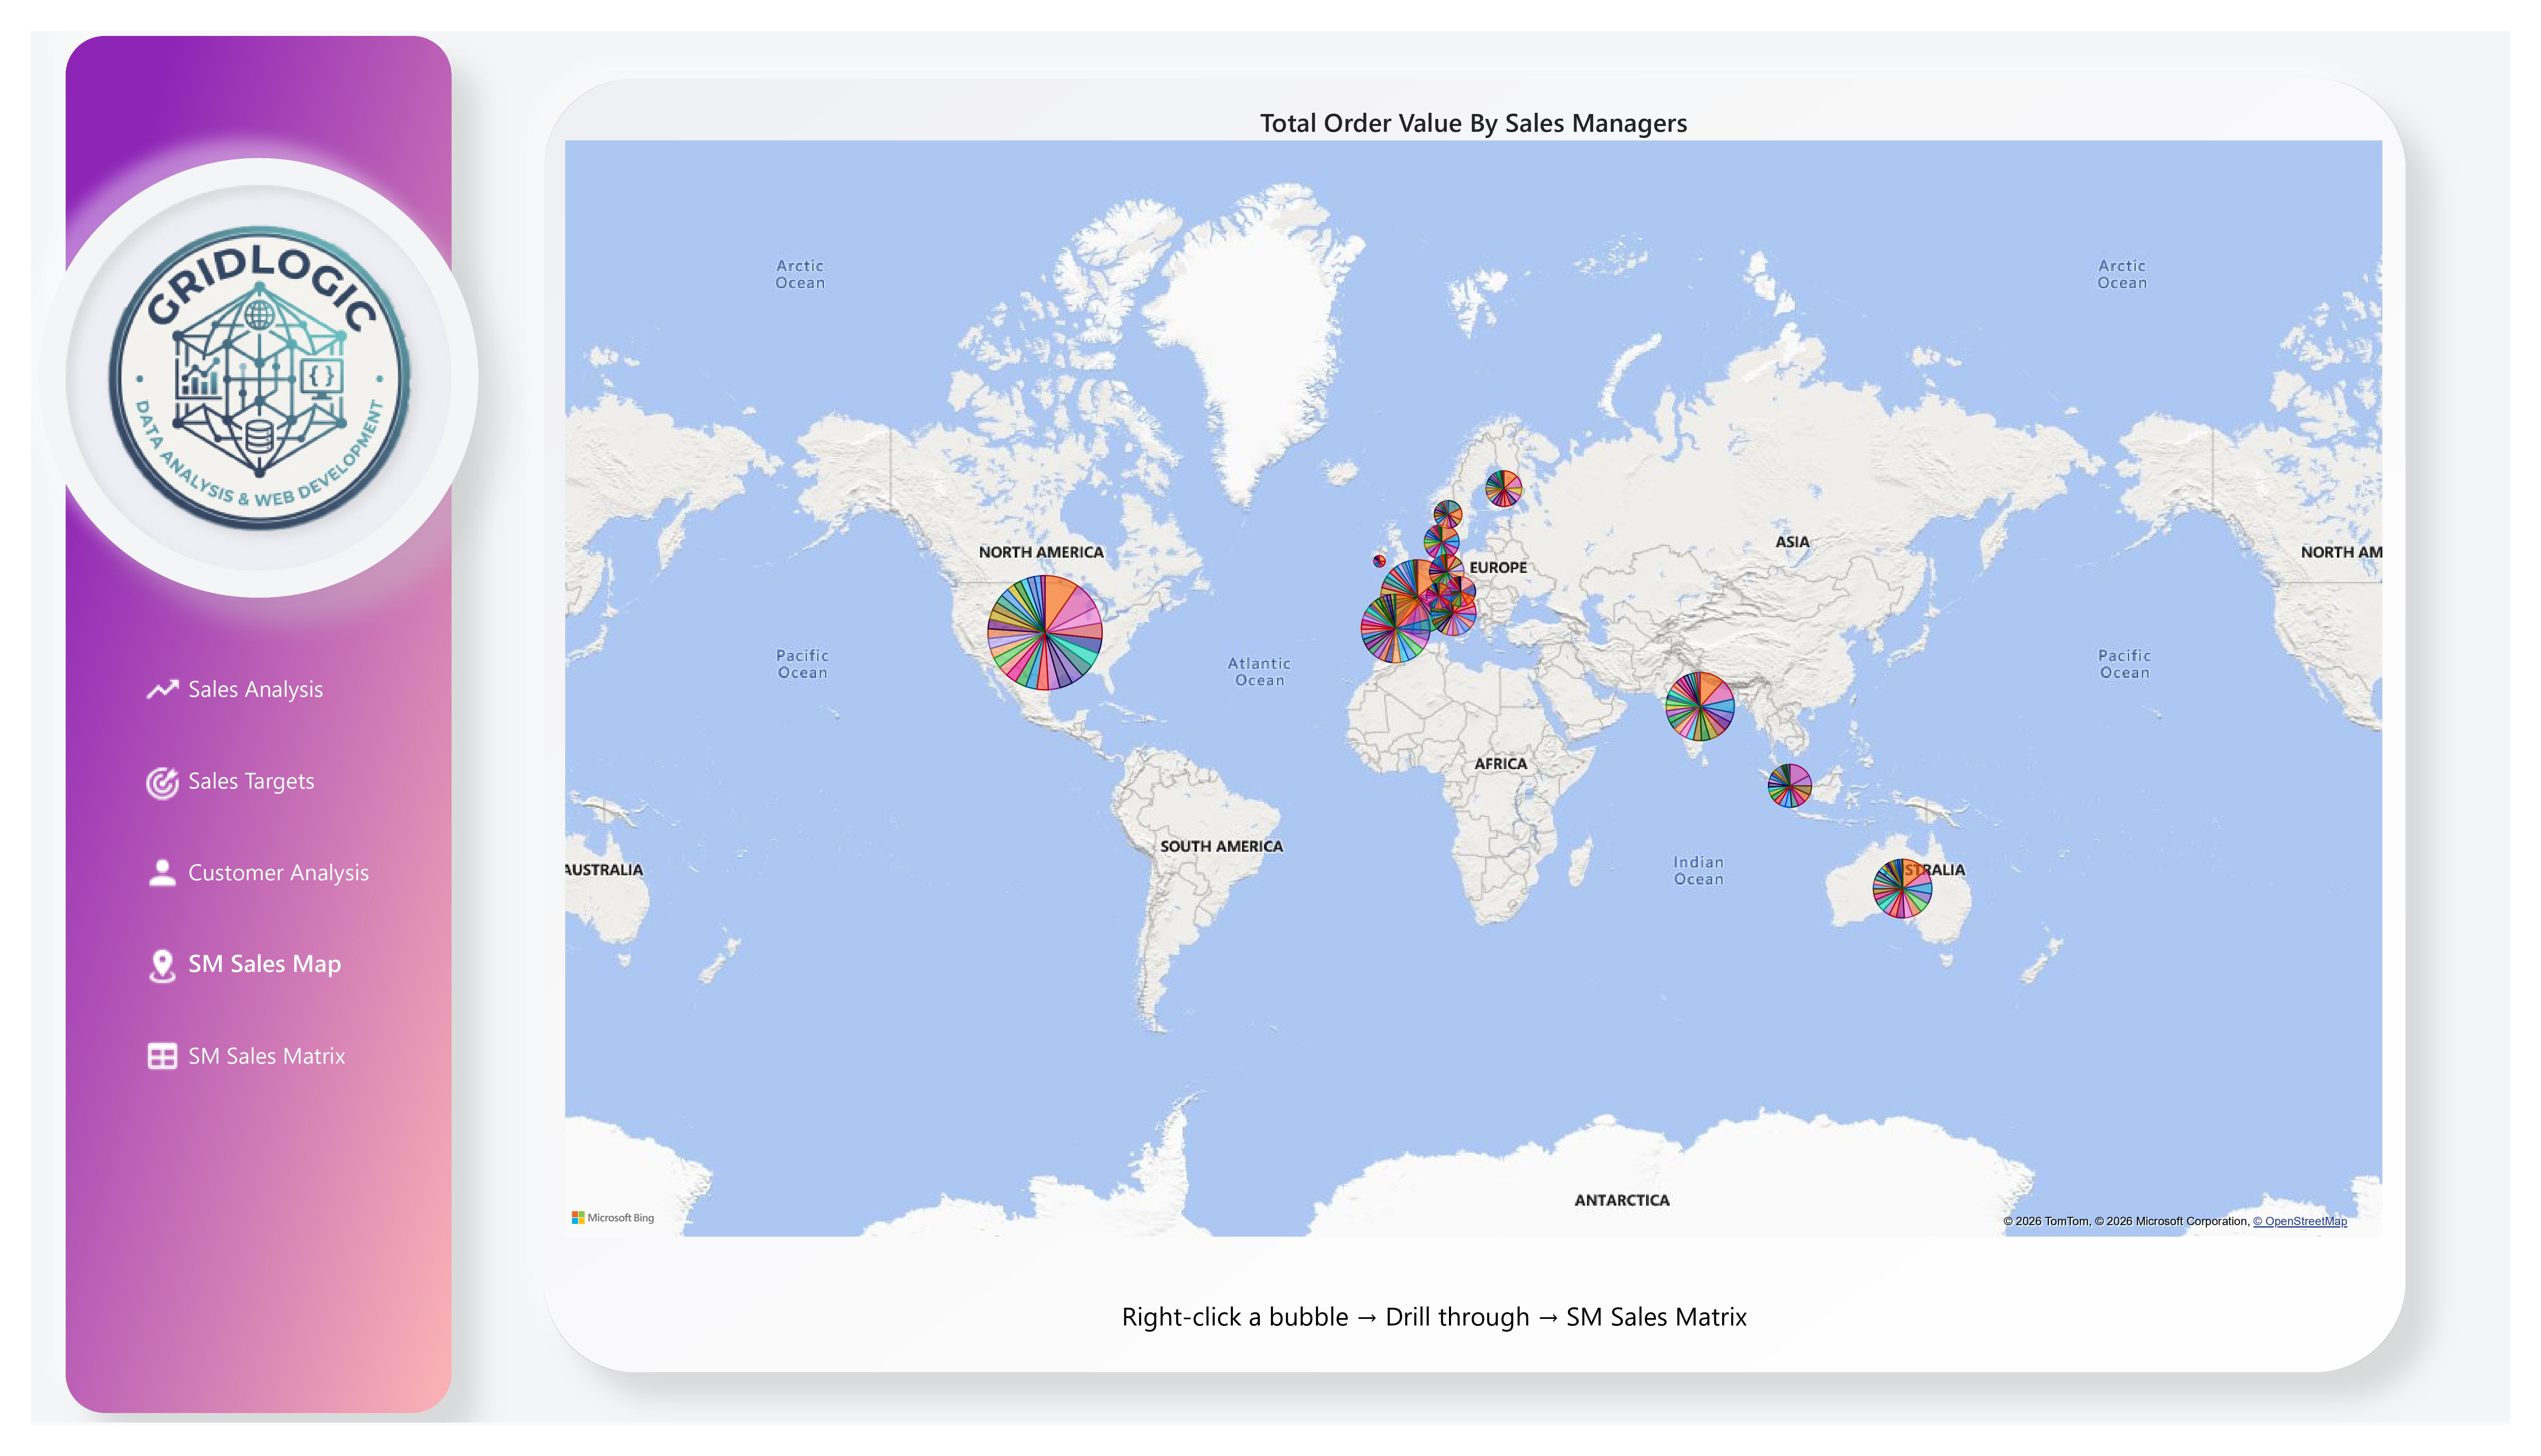

The page's visual inventory and layout, read from the dashboard file:
{"tool":"powerbi","page":{"name":"SM Sales Map","canvas":[1920,1080],"ordinal":3},"visuals":[{"type":"map","title":"Total Order Value By Sales Managers","fields":{"Category":["Customers.Customer Country"],"Size":["Sum(Orders.Order Value)"],"Series":["Orders.Sales Manager"]},"box":[398.3,42.3,1438.5,907.5],"z":0},{"type":"group","id":"g1","title":"NavMenu","box":[82.9,473.8,209.6,355],"z":1000},{"type":"actionButton","title":"TableIconButton","box":[82.9,775.3,37.6,37.6],"z":1500,"group":"g1"},{"type":"shape","box":[742.6,962.9,688.6,62.7],"z":2000},{"type":"actionButton","title":"MapIconButton","box":[82.9,704.8,37.6,37.6],"z":4000,"group":"g1"},{"type":"actionButton","title":"CustomerIconButton","box":[82.9,632.4,37.6,37.6],"z":4312,"group":"g1"},{"type":"actionButton","title":"TargetIconButton","box":[82.9,563.4,37.6,37.6],"z":4625,"group":"g1"},{"type":"actionButton","title":"SalesIconButton","box":[82.9,490.5,37.6,37.6],"z":5250,"group":"g1"},{"type":"pageNavigator","title":"PageNavigator","box":[110,473.8,182.5,355],"z":5500,"group":"g1"}]}

Visuals, with their boxes on the page's 1920x1080 design canvas (x1, y1, x2, y2). These are canvas units, not pixel positions in the 2541x1456 screenshot, which may show the page scaled, cropped or inside an application window:
"Total Order Value By Sales Managers" map: 398, 42, 1837, 950
"NavMenu" group: 83, 474, 292, 829
"TableIconButton" actionButton: 83, 775, 120, 813
shape: 743, 963, 1431, 1026
"MapIconButton" actionButton: 83, 705, 120, 742
"CustomerIconButton" actionButton: 83, 632, 120, 670
"TargetIconButton" actionButton: 83, 563, 120, 601
"SalesIconButton" actionButton: 83, 490, 120, 528
"PageNavigator" pageNavigator: 110, 474, 292, 829
